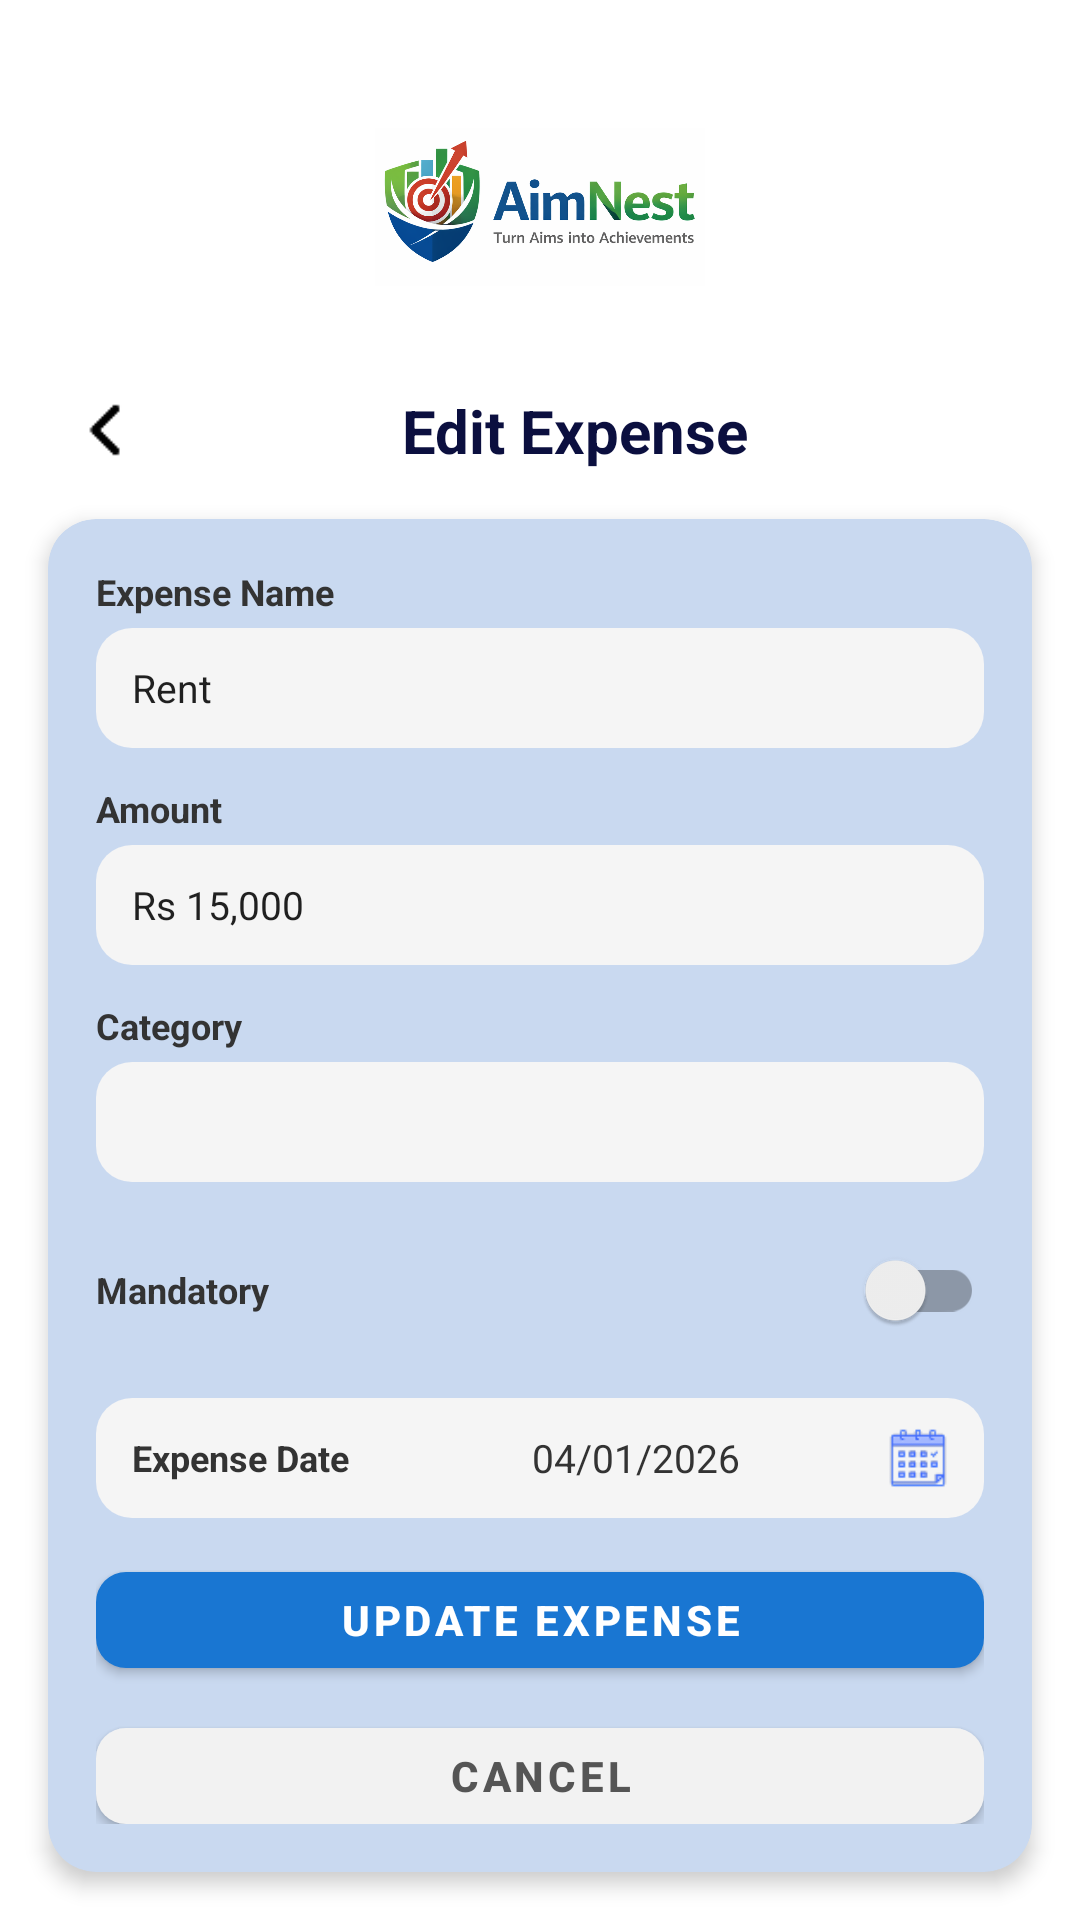

Screen size 1080px×1920px. Icon name, then its center in pixels as (x=x, y=y):
Back: (x=104, y=430)
Calendar: (x=918, y=1458)
